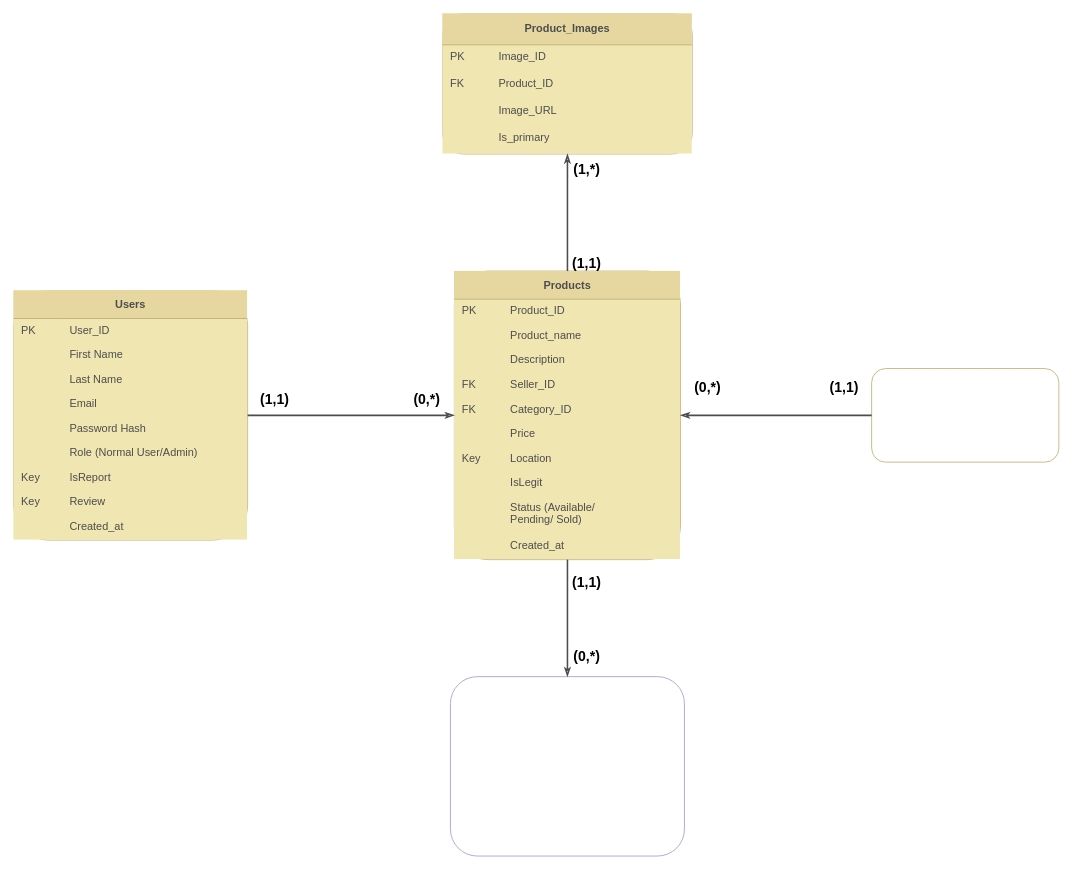
Some shapes in this 1073 by 870 pixel diagram are drawn without their labels. The shapes that lost their labels are listed below. From the top down, each one's centre as x and y in pixels, then its label:
pixel 965 415: Categories PK Category_ID Category_name
pixel 567 766: Messages PK Message_ID FK Product_ID FK Sender_ID FK Receiver_ID Content Sent_at
